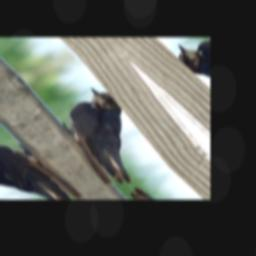Swallow: (39, 83, 173, 191)
